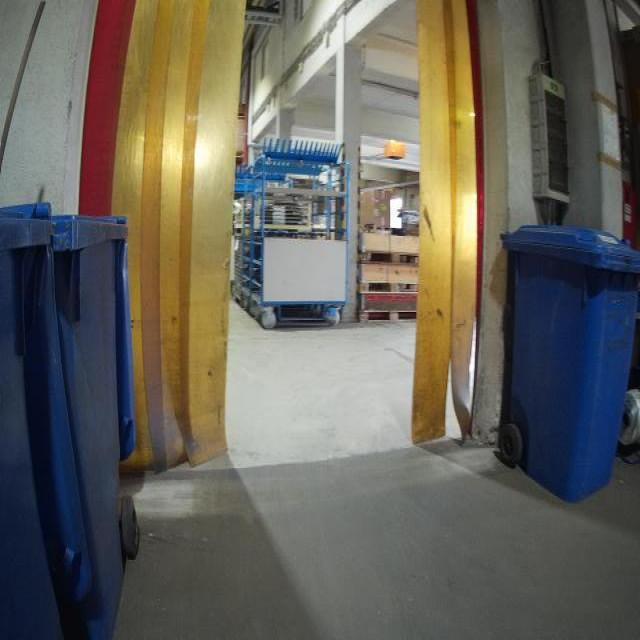pallet: (359, 247, 421, 266), (358, 278, 422, 294), (358, 309, 417, 321)
stillage: (254, 189, 325, 234), (229, 238, 247, 313), (230, 193, 247, 234)
